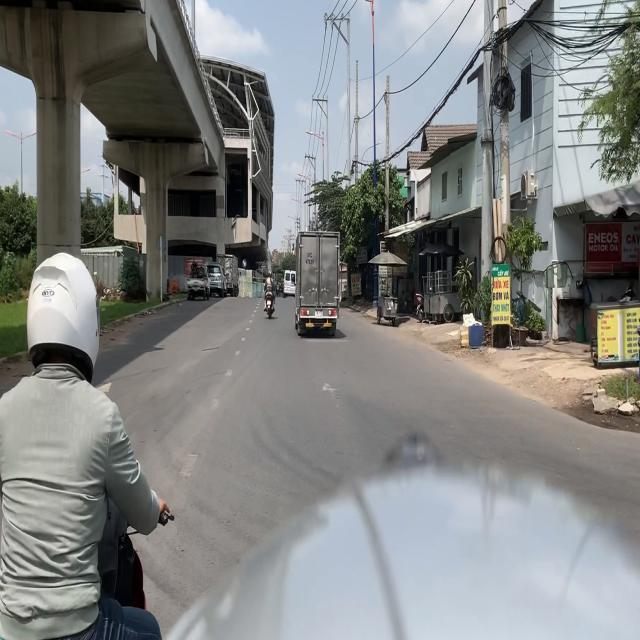Hieu lenh: (242, 259, 247, 268)
